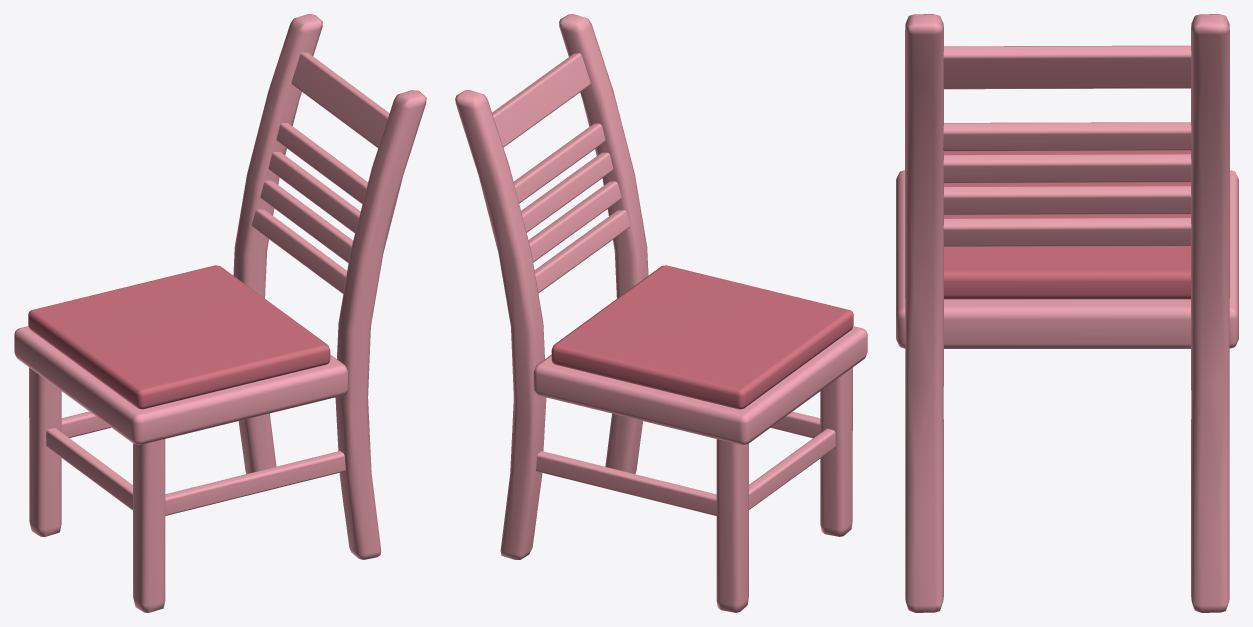
File: chair_01_pink.fbx
The picture shows the model from 3 angles, left to right: view 1: azimuth 30°, elevation 25°; view 2: azimuth 150°, elevation 25°; view 3: azimuth 270°, elevation 25°; orthographic projection. The views are drawn at different scales.
Parts seen in each view (by area): view 1: chair_01_pink; view 2: chair_01_pink; view 3: chair_01_pink.
Part boxes in pixels (x1,y1,x2,y2): chair_01_pink: (14,14,426,612); chair_01_pink: (455,14,867,612); chair_01_pink: (896,14,1238,612).
Size of the model in its own units: 73.08 by 106 by 53.
2 materials, 2 textured.
